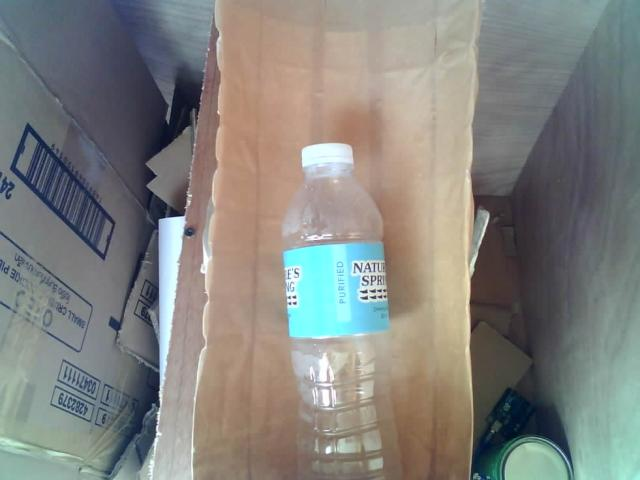small_bottle: (268, 138, 413, 480)
